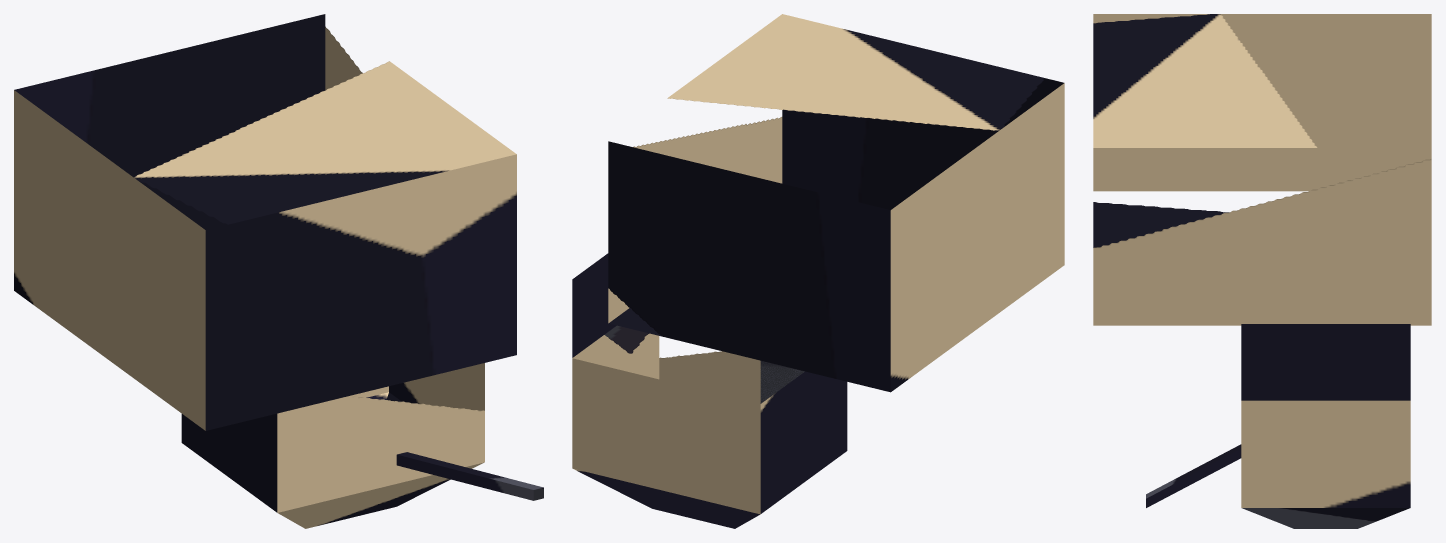
File: ss8_sandbox_front.obj
The picture shows the model from 3 angles, left to right: view 1: azimuth 30°, elevation 25°; view 2: azimuth 150°, elevation 25°; view 3: azimuth 270°, elevation 25°; orthographic projection. The views are drawn at different scales.
Parts seen in each view (by area): view 1: cube_selection_selection_selection_selection; view 2: cube_selection_selection_selection_selection; view 3: cube_selection_selection_selection_selection.
Part boxes in pixels (box(x1,y1,x2,y2)): cube_selection_selection_selection_selection: box(14, 14, 543, 528); cube_selection_selection_selection_selection: box(572, 14, 1064, 528); cube_selection_selection_selection_selection: box(1093, 14, 1431, 528).
Size of the model in its own units: 1.11 by 1.25 by 1.
